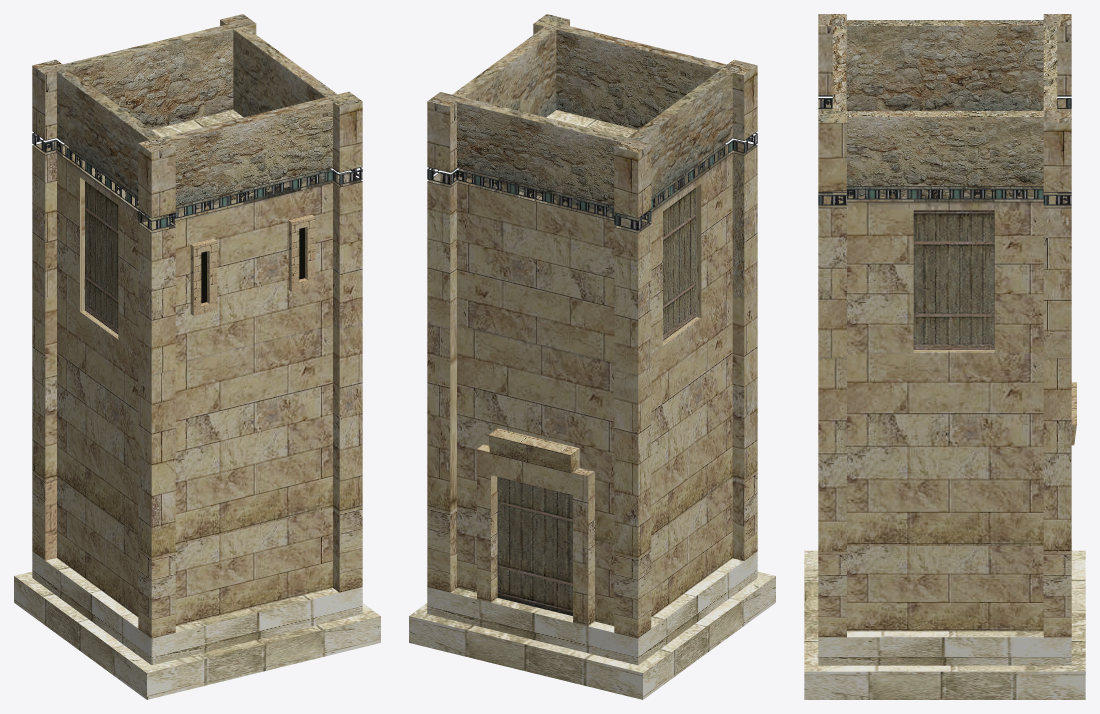
Rendered from kart_wall_tower_a.dae.
3 renders of one model, left to right at view 1: azimuth 30°, elevation 25°; view 2: azimuth 150°, elevation 25°; view 3: azimuth 270°, elevation 25°, orthographic. The views are drawn at different scales.
Visible parts, largest first — view 1: objBox07; view 2: objBox07; view 3: objBox07.
Boxes of the visible parts, x1=… form: objBox07: x1=14, y1=14, x2=380, y2=699; objBox07: x1=409, y1=14, x2=775, y2=699; objBox07: x1=804, y1=14, x2=1085, y2=699.
Size of the model in its own units: 7.89 by 7.76 by 17.39.
